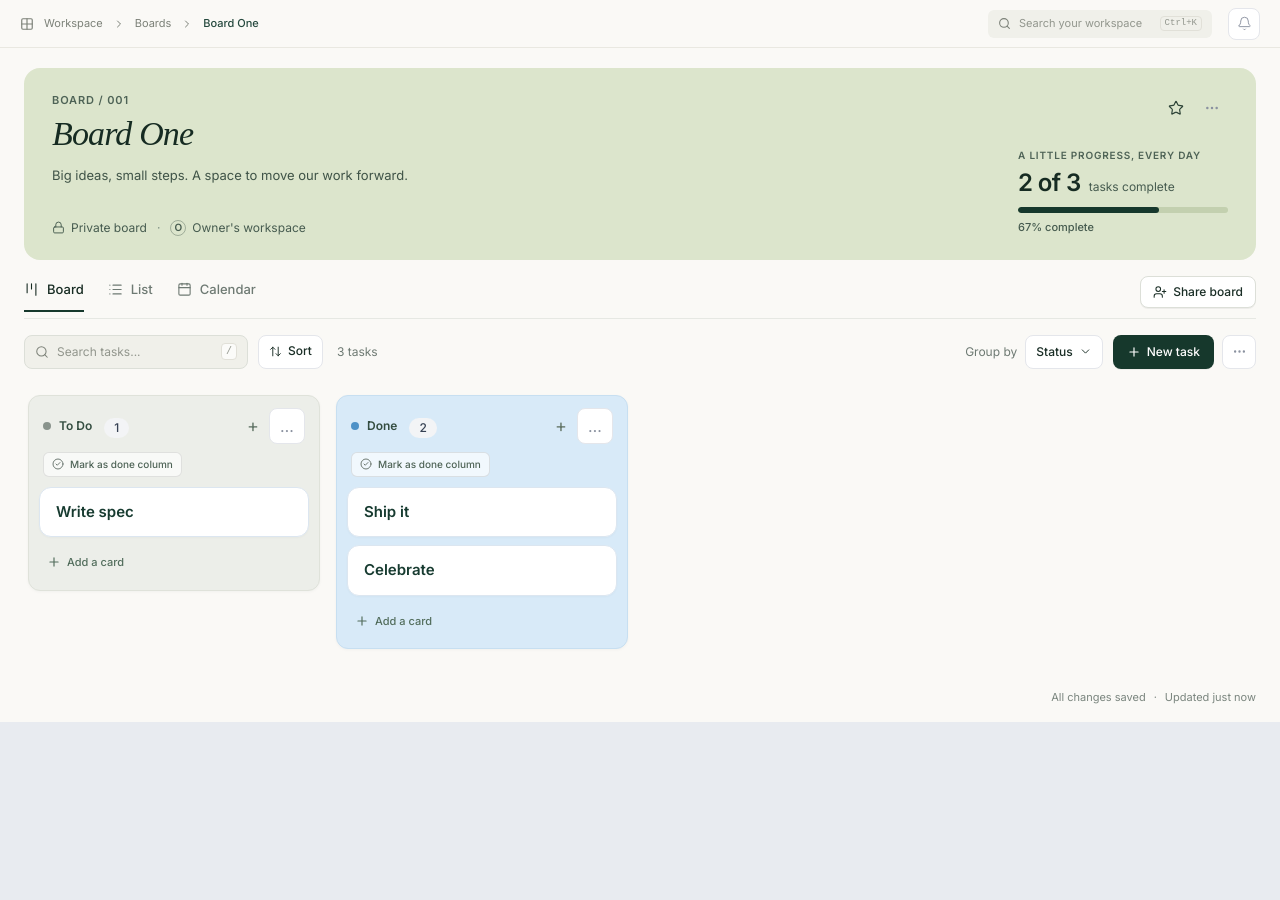
it: BoardDetailView › columns and cards › adds a card with exactly {title} to the right column
Click the button with aria-label "Add card to Done" at [403, 621], box [347,606,617,636]
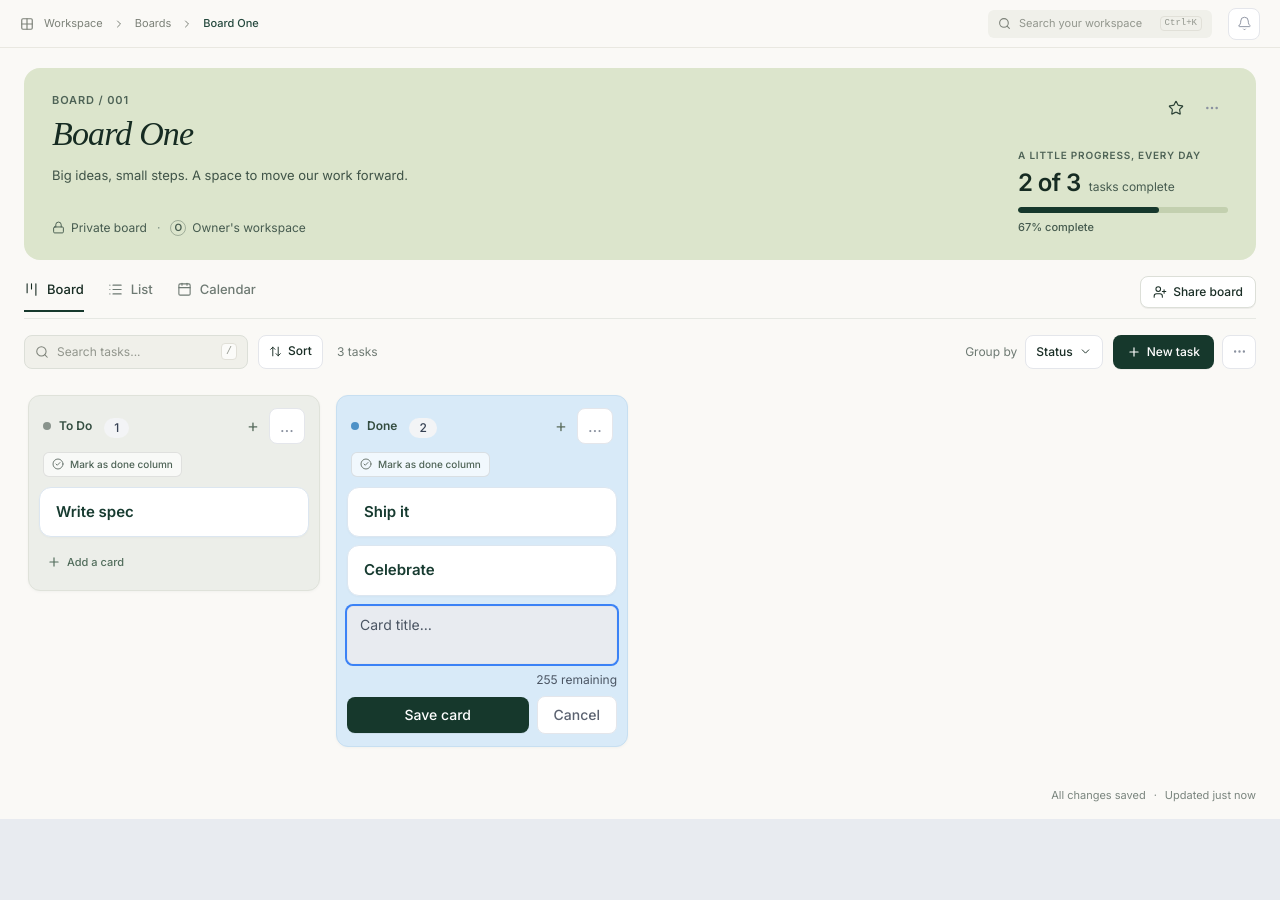
Type "New thing" into the text box labelled "Card title" at [482, 635], box [347,606,617,664]
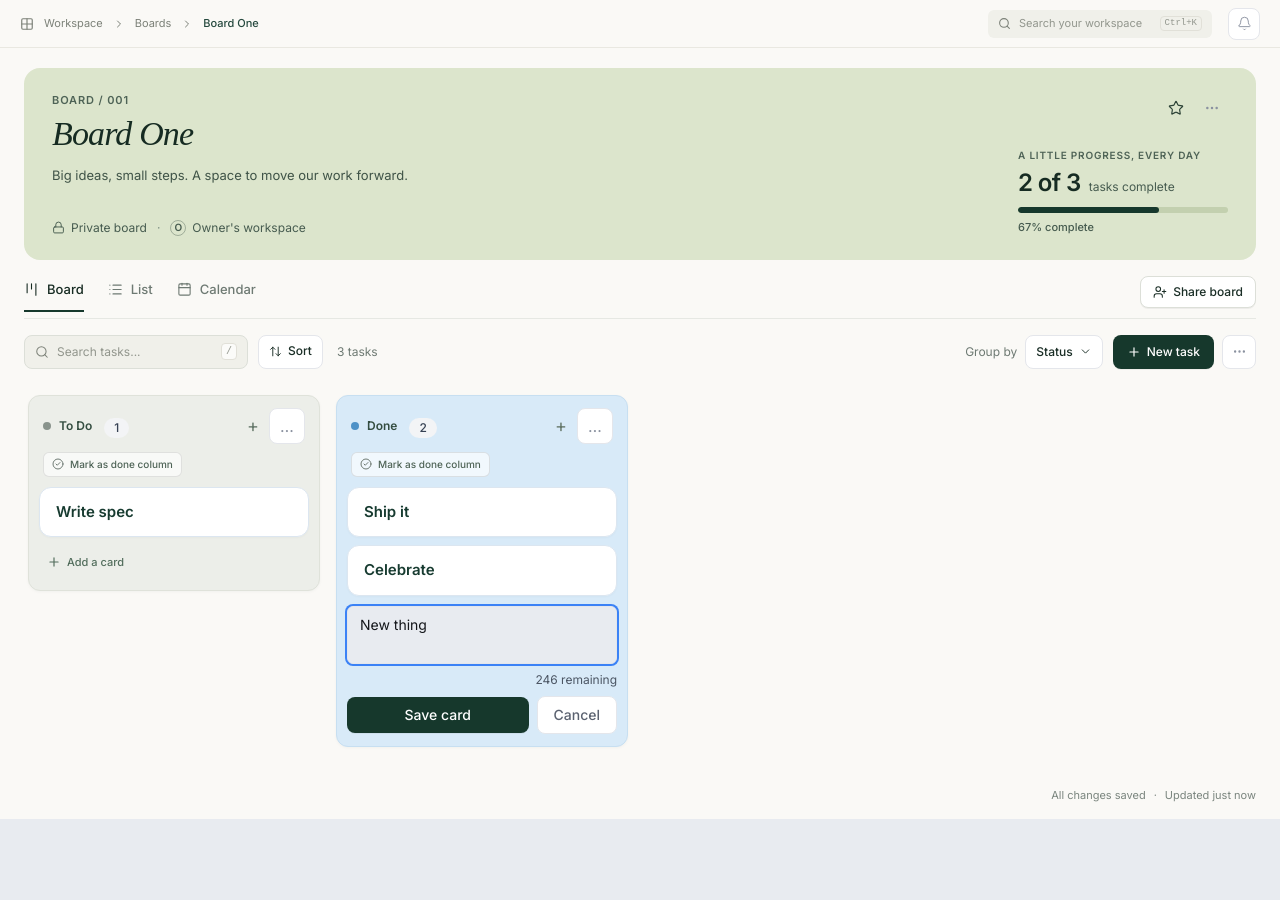
Click the button "Save card" at [438, 715], box [347,697,528,733]
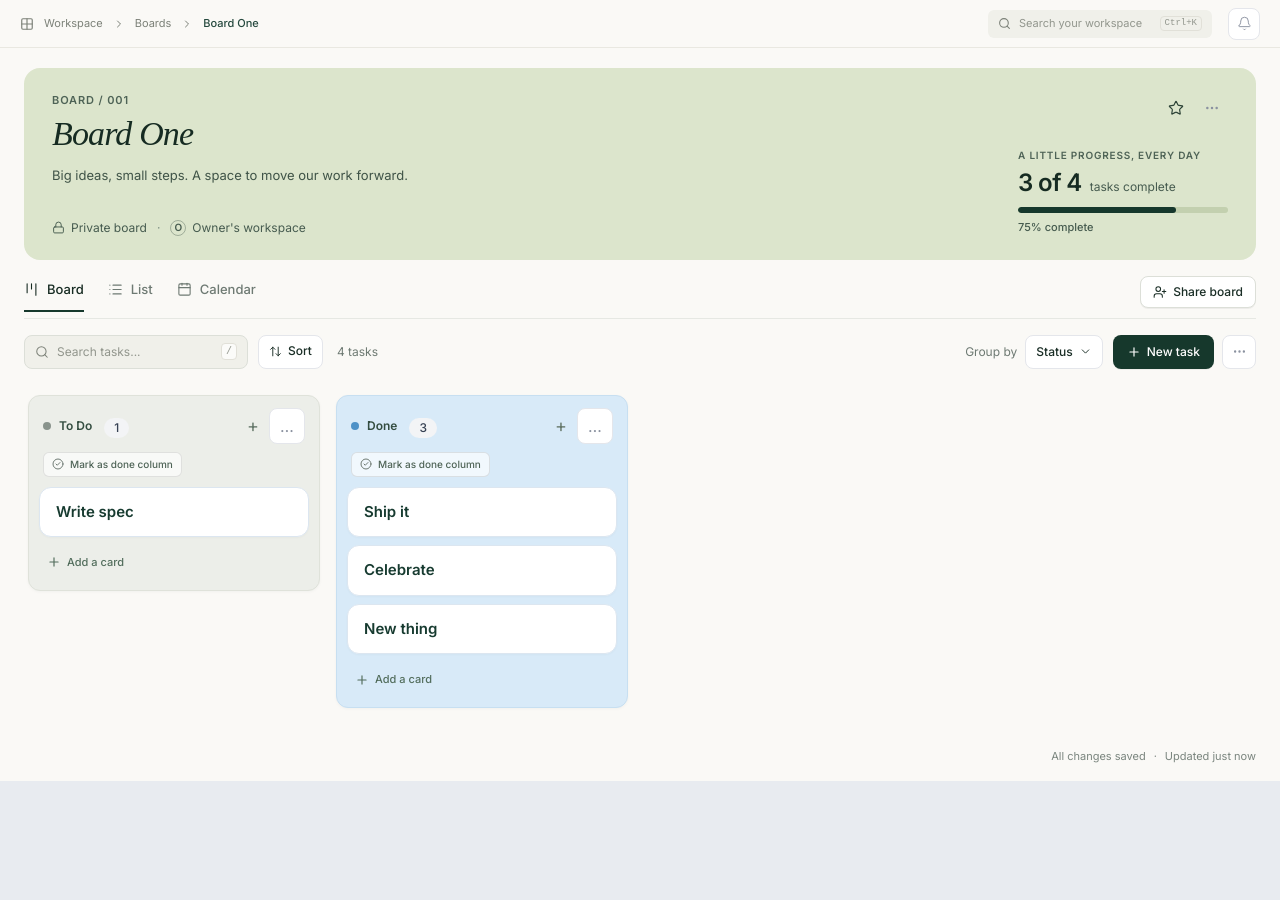
Expected: the text "New thing" is shown, [364,619,437,638]
